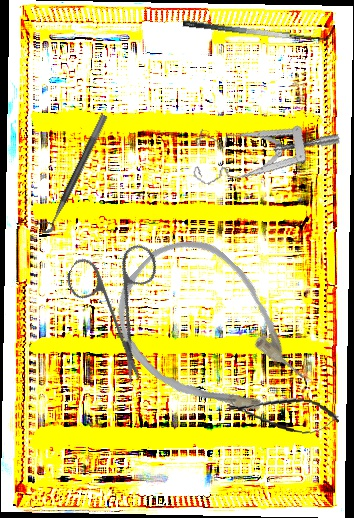Cannula: (91, 217, 329, 452)
Fixation Ring: (33, 109, 109, 236)
Iris Scissors: (35, 219, 202, 387)
Micro Scissor: (224, 389, 341, 439)
Spatula Surgical: (182, 7, 333, 49)
Speculum: (185, 101, 342, 213)
